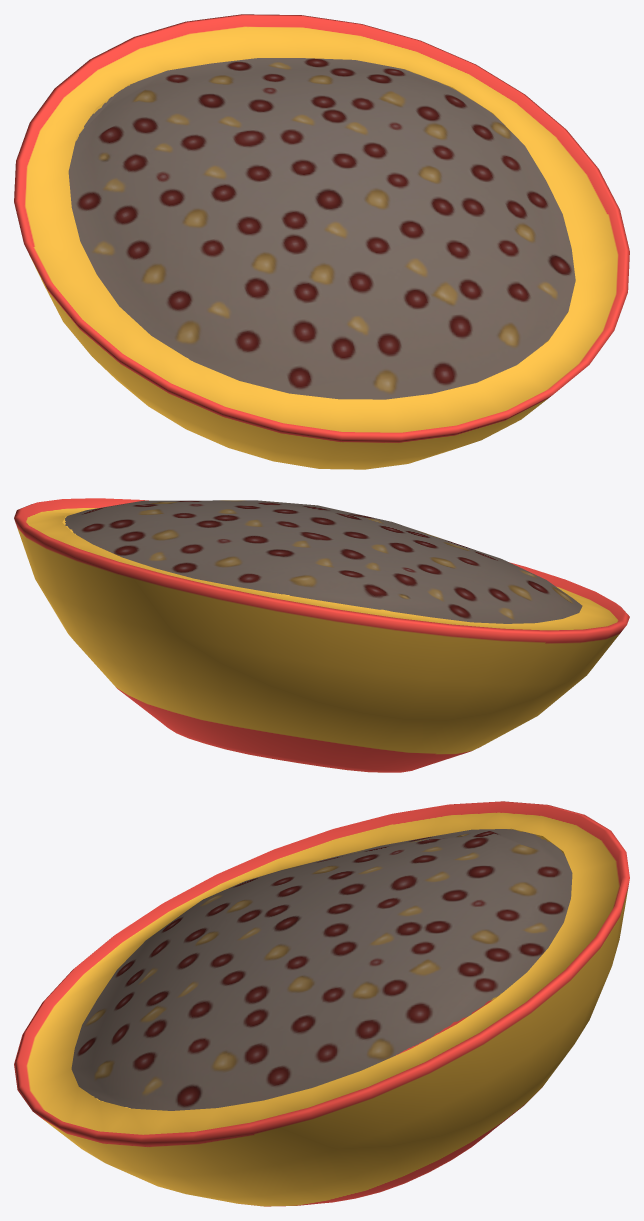
The model's file is Beans.fbx.
3 views of the same model, one above another, from view 1: azimuth 30°, elevation 25°; view 2: azimuth 150°, elevation 25°; view 3: azimuth 270°, elevation 25° (orthographic). The views are drawn at different scales.
Parts seen in each view (by area): view 1: frijol.001; view 2: frijol.001; view 3: frijol.001.
Part boxes in pixels (<box>): frijol.001: <box>14,14,629,469</box>; frijol.001: <box>14,498,629,772</box>; frijol.001: <box>14,801,629,1206</box>.
Bounding box in the file's own units: 97.11 × 49.7 × 91.56.
Materials: 1 (1 with a texture image).
